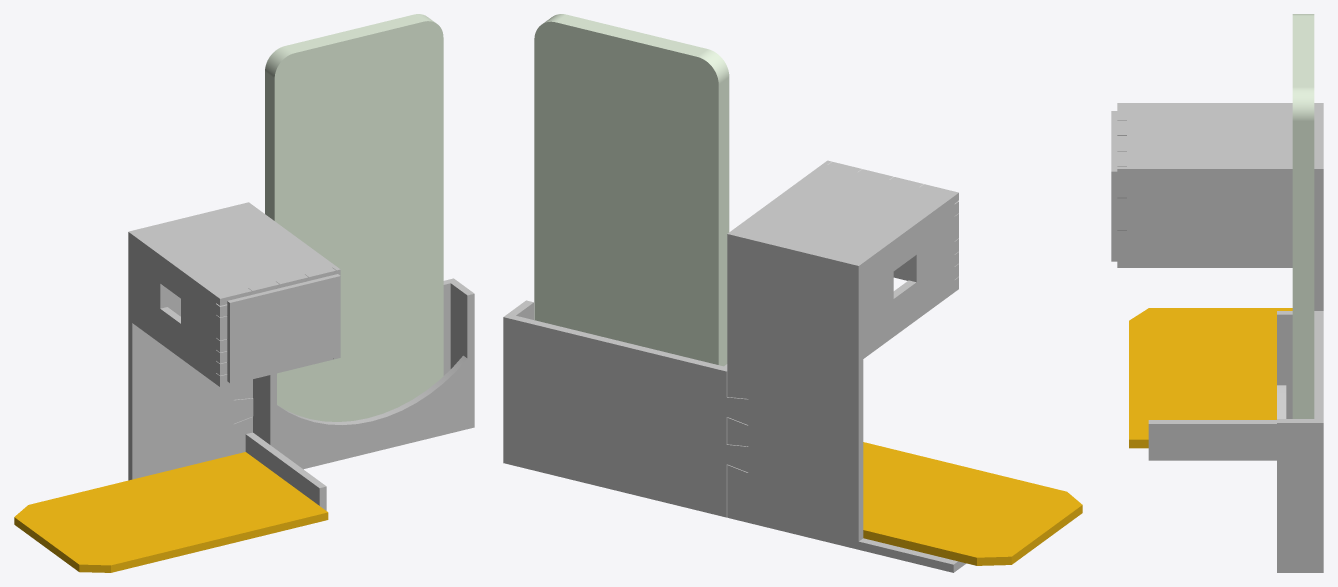
Rendered from qr-scanner-complete.glb.
3 renders of one model, left to right at view 1: azimuth 30°, elevation 25°; view 2: azimuth 150°, elevation 25°; view 3: azimuth 270°, elevation 25°, orthographic. The views are drawn at different scales.
Visible parts, largest first — view 1: Mock Phone, Main housing, Mock Student ID, Phone holder, Mock OLED screen, Front cover; view 2: Mock Phone, Main housing, Phone holder, Mock Student ID, Front cover; view 3: Main housing, Mock Student ID, Phone holder, Mock Phone, Mock OLED screen, Front cover.
Boxes of the visible parts, x1,y1,x2,y2 form: Mock Phone: [265, 14, 443, 421]; Main housing: [128, 202, 340, 510]; Mock Student ID: [14, 452, 328, 572]; Phone holder: [233, 278, 474, 469]; Mock OLED screen: [227, 274, 340, 383]; Front cover: [216, 267, 335, 387]; Mock Phone: [534, 14, 729, 366]; Main housing: [727, 160, 966, 572]; Phone holder: [503, 300, 748, 517]; Mock Student ID: [863, 442, 1082, 565]; Front cover: [828, 161, 958, 291]; Main housing: [1117, 103, 1323, 460]; Mock Student ID: [1129, 308, 1292, 448]; Phone holder: [1277, 311, 1323, 572]; Mock Phone: [1292, 14, 1314, 418]; Mock OLED screen: [1111, 111, 1117, 261]; Front cover: [1117, 120, 1126, 230].
Size of the model in its own units: 0.1877 by 0.163 by 0.068.
